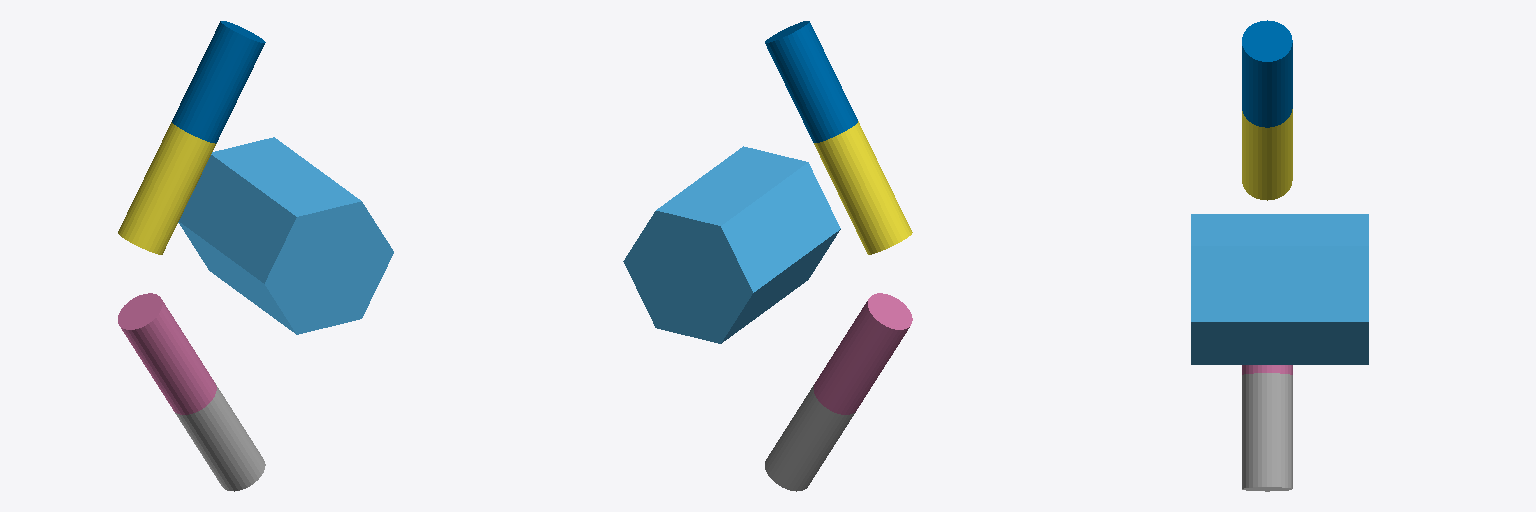
URDF robot description (two_claw_robot):
<?xml version="1.0"?>
<robot name="two_claw_robot">

    <!-- Base of the robot -->
    <link name="base_link">

    </link>

    <!-- Hexagonal Prism -->
    <link name="hex_link">
        <visual>
            <geometry>
                <mesh filename="meshes/prism_0l03_0h07.obj" scale="1 1 1"/>
            </geometry>
        </visual>
        <collision>
            <geometry>
                <mesh filename="meshes/prism_0l03_0h07.obj" scale="1 1 1"/>
            </geometry>
        </collision>
        <inertial>
            <mass value="0.2"/>
            <inertia ixx="0.00008" iyy="0.00008" izz="0.00008" ixy="0" ixz="0" iyz="0"/>
        </inertial>
    </link>

    <joint name="hex_joint" type="revolute">
        <parent link="base_link"/>
        <child link="hex_link"/>
        <!-- <origin xyz="0.05 0 0" rpy="-1.570796 0 0"/> -->
        <origin xyz="0.07 0 0" rpy="-1.570796 0 0"/>
        <axis xyz="0 0 -1"/>
        <!-- <limit lower="-3.14159" upper="3.14159"/> -->
    </joint>

    <!-- Claw 1 -->
    <link name="claw1_base"/>
    
    <joint name="claw1_joint" type="fixed">
        <parent link="base_link"/>
        <child link="claw1_base"/>
        <origin xyz="0 0.03 0.015" rpy="0 0.523598 0"/>
    </joint>

    <link name="claw1_mid">
        <visual>
            <geometry>
                <cylinder radius="0.01" length="0.05"/>
            </geometry>
            <origin xyz="0 0 0.025" rpy="0 0 0"/>
        </visual>
        <collision>
            <geometry>
                <cylinder radius="0.01" length="0.05"/>
            </geometry>
            <origin xyz="0 0 0.025" rpy="0 0 0"/>
        </collision>
        <inertial>
            <mass value="0.05"/>
            <origin xyz="0 0 0.025" rpy="0 0 0"/>
            <inertia ixx="0.00001" iyy="0.00002" izz="0.00001" ixy="0" ixz="0" iyz="0"/>
        </inertial>
    </link>

    <joint name="claw1_mid_joint" type="revolute">
        <parent link="claw1_base"/>
        <child link="claw1_mid"/>
        <origin xyz="0 0 0"/>
        <axis xyz="0 1 0"/>
        <limit lower="0" upper="1.5708"/>
    </joint>

    <link name="claw1_end">
        <visual>
            <geometry>
                <cylinder radius="0.01" length="0.045"/>
            </geometry>
            <origin xyz="0 0 0.0225" rpy="0 0 0"/>
        </visual>
        <collision>
            <geometry>
                <cylinder radius="0.01" length="0.045"/>
            </geometry>
            <origin xyz="0 0 0.0225" rpy="0 0 0"/>
        </collision>
        <inertial>
            <mass value="0.05"/>
            <origin xyz="0 0 0.0225" rpy="0 0 0"/>
            <inertia ixx="0.00001" iyy="0.00002" izz="0.00001" ixy="0" ixz="0" iyz="0"/>
        </inertial>
    </link>

    <joint name="claw1_end_joint" type="revolute">
        <parent link="claw1_mid"/>
        <child link="claw1_end"/>
        <origin xyz="0 0 0.05"/>
        <axis xyz="0 1 0"/>
        <limit lower="0" upper="1.5708"/>
    </joint>

    <!-- Claw 2 (Mirrored) -->
    <link name="claw2_base"/>
    
    <joint name="claw2_joint" type="fixed">
        <parent link="base_link"/>
        <child link="claw2_base"/>
        <origin xyz="0 0.03 -0.015" rpy="0 2.617994 0"/>
    </joint>

    <link name="claw2_mid">
        <visual>
            <geometry>
                <cylinder radius="0.01" length="0.05"/>
            </geometry>
            <origin xyz="0 0 0.025" rpy="0 0 0"/>
        </visual>
        <collision>
            <geometry>
                <cylinder radius="0.01" length="0.05"/>
            </geometry>
            <origin xyz="0 0 0.025" rpy="0 0 0"/>
        </collision>
        <inertial>
            <mass value="0.05"/>
            <origin xyz="0 0 0.025" rpy="0 0 0"/>
            <inertia ixx="0.00001" iyy="0.00002" izz="0.00001" ixy="0" ixz="0" iyz="0"/>
        </inertial>
    </link>

    <joint name="claw2_mid_joint" type="revolute">
        <parent link="claw2_base"/>
        <child link="claw2_mid"/>
        <origin xyz="0 0 0"/>
        <axis xyz="0 -1 0"/>
        <limit lower="0" upper="1.5708"/>
    </joint>

    <link name="claw2_end">
        <visual>
            <geometry>
                <cylinder radius="0.01" length="0.045"/>
            </geometry>
            <origin xyz="0 0 0.0225" rpy="0 0 0"/>
        </visual>
        <collision>
            <geometry>
                <cylinder radius="0.01" length="0.045"/>
            </geometry>
            <origin xyz="0 0 0.0225" rpy="0 0 0"/>
        </collision>
        <inertial>
            <mass value="0.05"/>
            <origin xyz="0 0 0.0225" rpy="0 0 0"/>
            <inertia ixx="0.00001" iyy="0.00002" izz="0.00001" ixy="0" ixz="0" iyz="0"/>
        </inertial>
    </link>

    <joint name="claw2_end_joint" type="revolute">
        <parent link="claw2_mid"/>
        <child link="claw2_end"/>
        <origin xyz="0 0 0.05"/>
        <axis xyz="0 -1 0"/>
        <limit lower="0" upper="1.5708"/>
    </joint>

</robot>

--- Render facts (derived) ---
3 views of the same robot in one strip: view 1: azimuth 30°, elevation 25°; view 2: azimuth 150°, elevation 25°; view 3: azimuth 270°, elevation 25° (orthographic).
Robot: two_claw_robot — 8 links, 7 joints (5 revolute, 2 fixed); root link base_link; default pose: every joint at zero.
Visible links, largest first — view 1: hex_link, claw2_mid, claw1_mid, claw1_end, claw2_end; view 2: hex_link, claw2_mid, claw1_mid, claw1_end, claw2_end; view 3: hex_link, claw2_end, claw1_end, claw1_mid.
Link boxes in pixels (x1,y1,x2,y2): hex_link: (178, 137, 393, 334); claw2_mid: (118, 293, 216, 414); claw1_mid: (118, 122, 216, 254); claw1_end: (172, 21, 265, 143); claw2_end: (175, 383, 265, 491); hex_link: (623, 146, 840, 343); claw2_mid: (813, 293, 912, 414); claw1_mid: (814, 121, 912, 254); claw1_end: (765, 21, 857, 142); claw2_end: (765, 385, 855, 491); hex_link: (1191, 214, 1368, 364); claw2_end: (1242, 373, 1292, 491); claw1_end: (1242, 20, 1292, 127); claw1_mid: (1242, 109, 1292, 200).
Size in the robot's own frame: 0.1087 by 0.07 by 0.2045 metres.
Meshes: 1 distinct files referenced, 1 mesh visuals loaded (1 OBJ).
